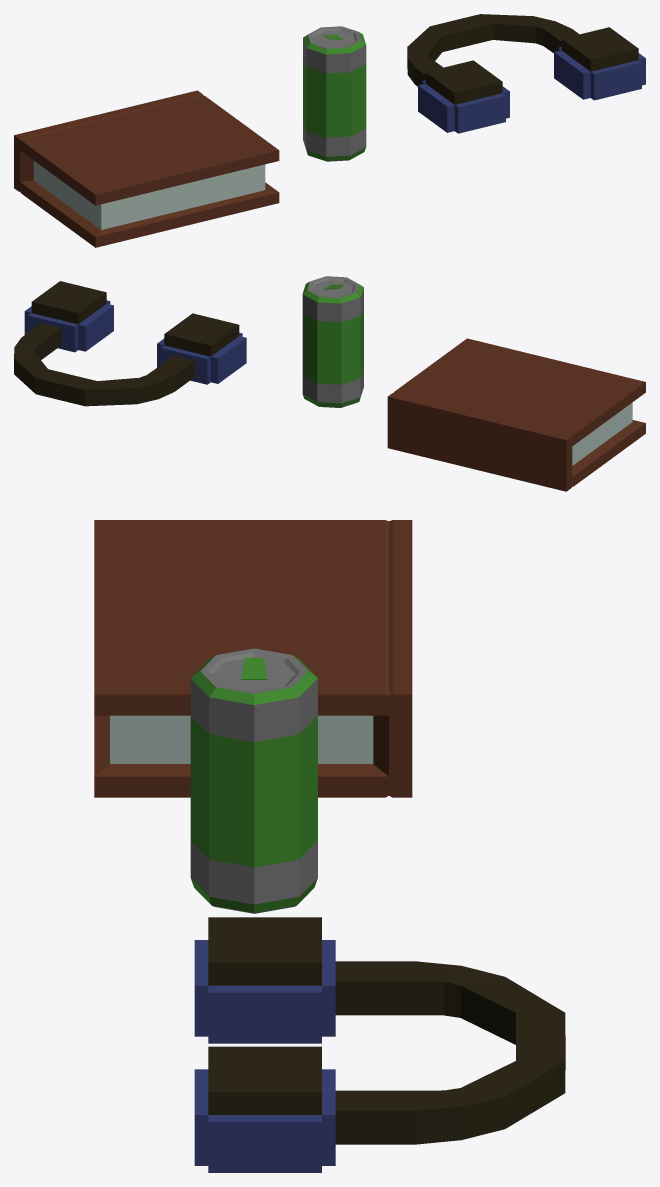
Rendered from items.glb.
3 views of the same model, one above another, from view 1: azimuth 30°, elevation 25°; view 2: azimuth 150°, elevation 25°; view 3: azimuth 270°, elevation 25° (orthographic). The views are drawn at different scales.
Visible parts, largest first — view 1: Book, Headphones, EnergyDrink; view 2: Book, Headphones, EnergyDrink; view 3: Book, Headphones, EnergyDrink.
Boxes of the visible parts, x1,y1,x2,y2 form: Book: (14, 90, 279, 247); Headphones: (407, 14, 645, 133); EnergyDrink: (303, 26, 366, 161); Book: (387, 338, 645, 491); Headphones: (14, 281, 246, 406); EnergyDrink: (302, 276, 363, 407); Book: (94, 520, 412, 797); Headphones: (194, 917, 565, 1172); EnergyDrink: (190, 648, 317, 913).
Size of the model in its own units: 1.4 by 0.2649 by 0.505.
